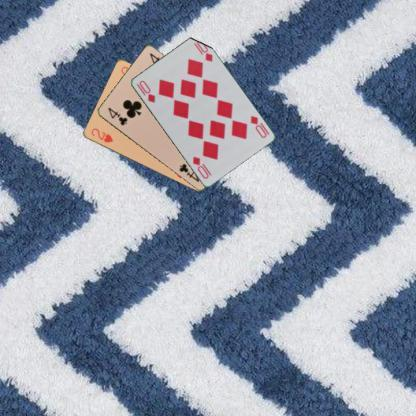10d: (133, 77, 156, 104), (248, 113, 270, 139)
2h: (88, 125, 114, 144)
4c: (105, 105, 129, 127)
